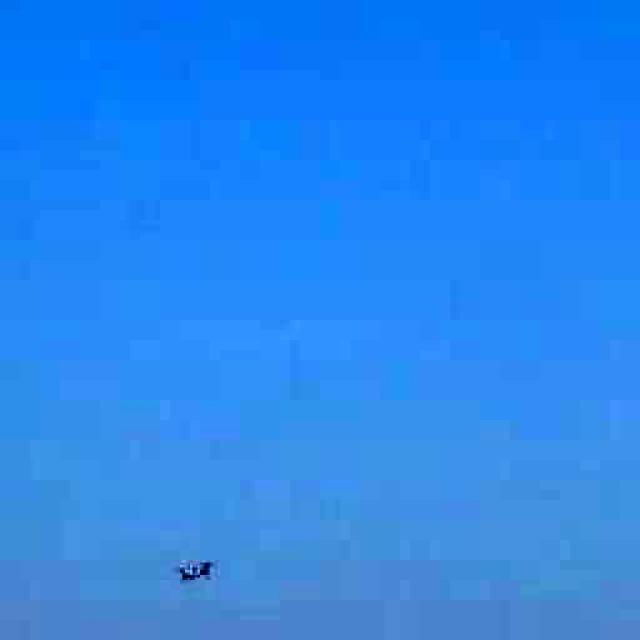bird: (160, 539, 228, 599)
